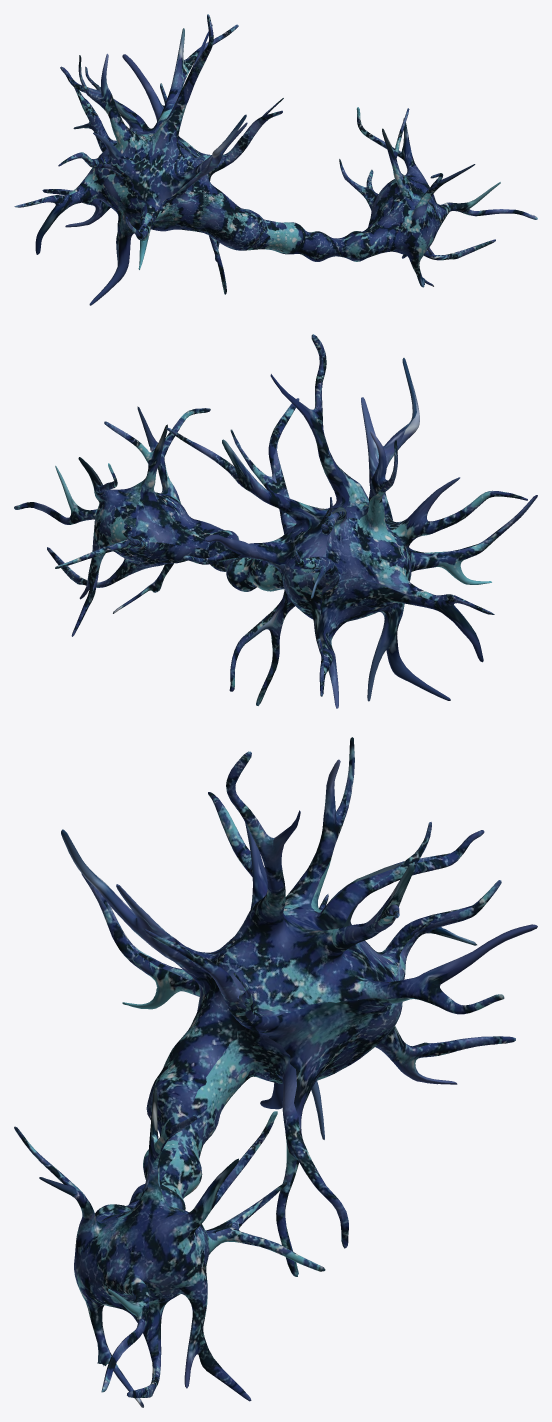
File: neuron.glb
The picture shows the model from 3 angles, top to bottom: view 1: azimuth 30°, elevation 25°; view 2: azimuth 150°, elevation 25°; view 3: azimuth 270°, elevation 25°; orthographic projection. The views are drawn at different scales.
Parts seen in each view (by area): view 1: Object_2; view 2: Object_2; view 3: Object_2.
Part boxes in pixels (x1=…): Object_2: x1=14, y1=14, x2=537, y2=305; Object_2: x1=14, y1=334, x2=537, y2=708; Object_2: x1=14, y1=737, x2=537, y2=1407.
Size of the model in its own units: 9.53 by 5.95 by 5.64.
Materials: 1 (1 with a texture image).
